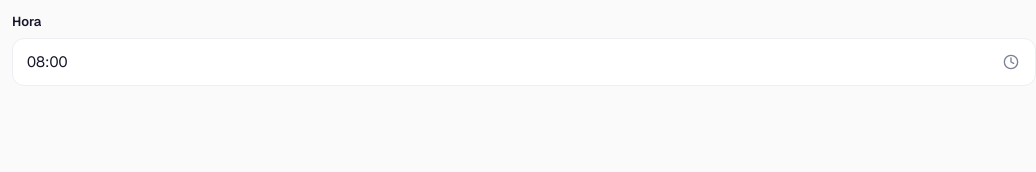
Test case: TimeField › guarda la hora escrita a mano fuera de la grilla
Expected: the element named "hora" holds "08:00", [12,12,1035,86]
Replace the text in the dropdown with test id "field:hora" with "0412" at point(506, 62), box [27,38,985,84]
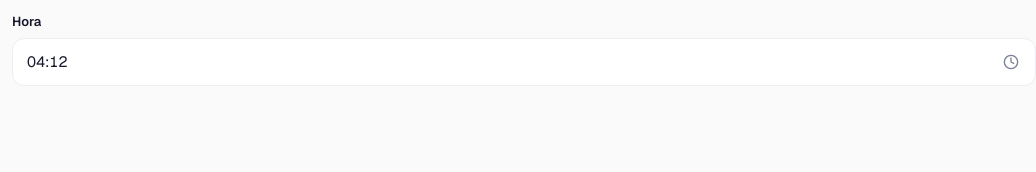
Expected: the element named "hora" holds "04:12", [12,12,1035,86]
Replace the text in the dropdown with test id "field:hora" with "2575" at point(506, 62), box [27,38,985,84]
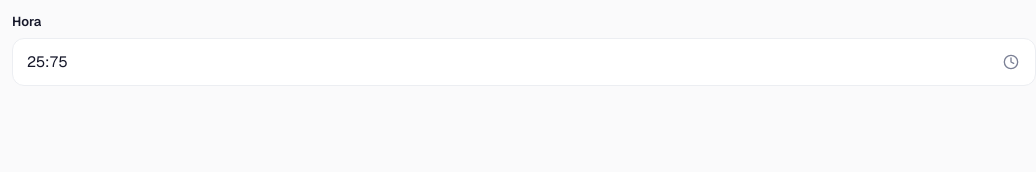
Leave the dropdown with test id "field:hora", box [27,38,985,84]
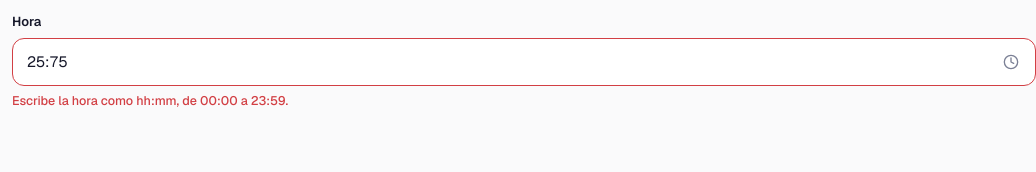
Expected: the element named "hora" holds "04:12", [12,12,1035,110]
Now the text "Escribe la hora como hh:mm, de 00:00 a 23:59." is shown, box [12,92,288,108]
